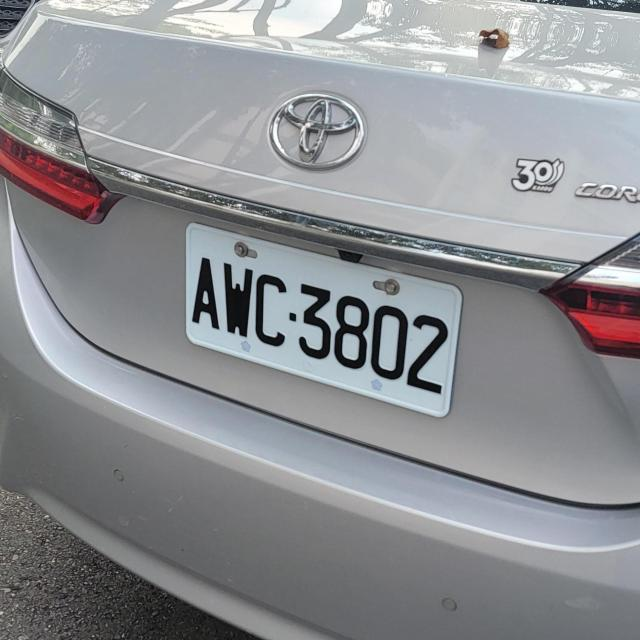W: (175, 223, 474, 419)
